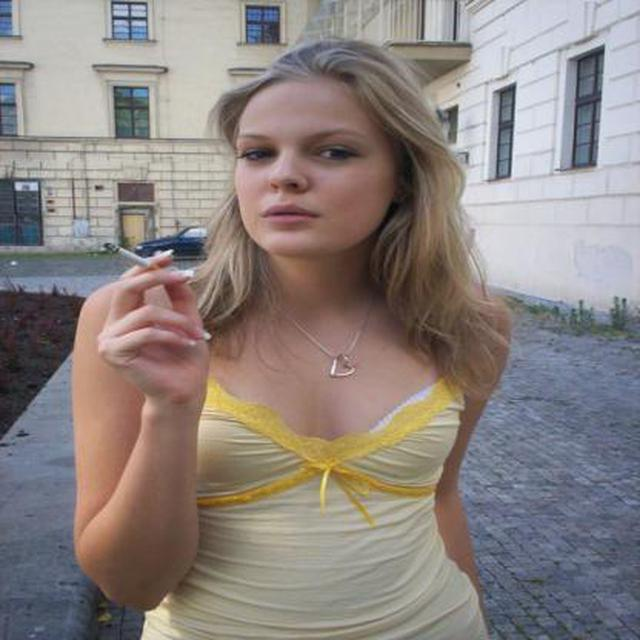smoking: (103, 243, 163, 272)
